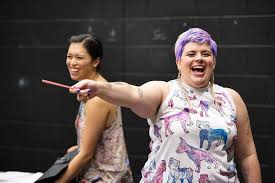asian_female: (60, 34, 107, 88)
